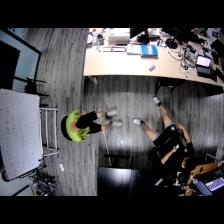normal: (133, 97, 196, 171), (67, 108, 125, 143)
